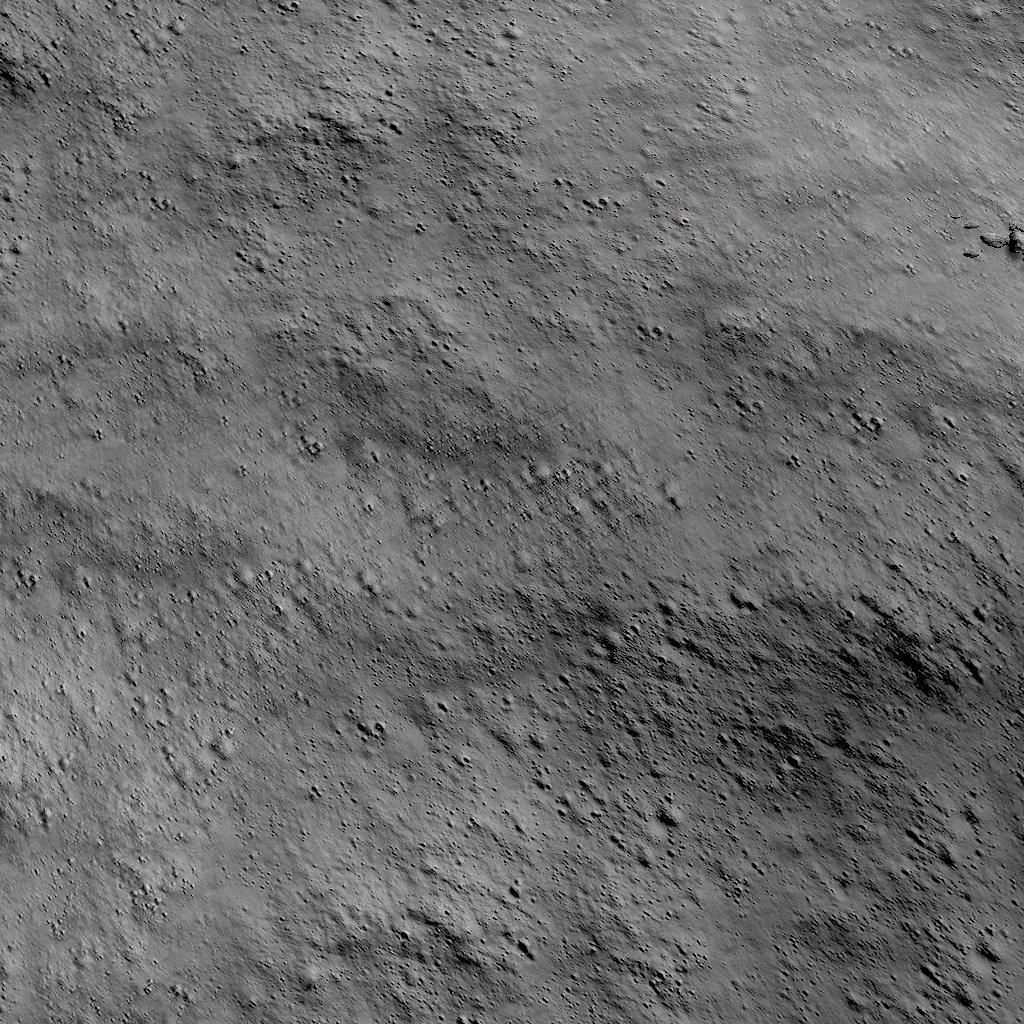Plan surface: (0, 285, 1024, 1024), (0, 0, 950, 270)
